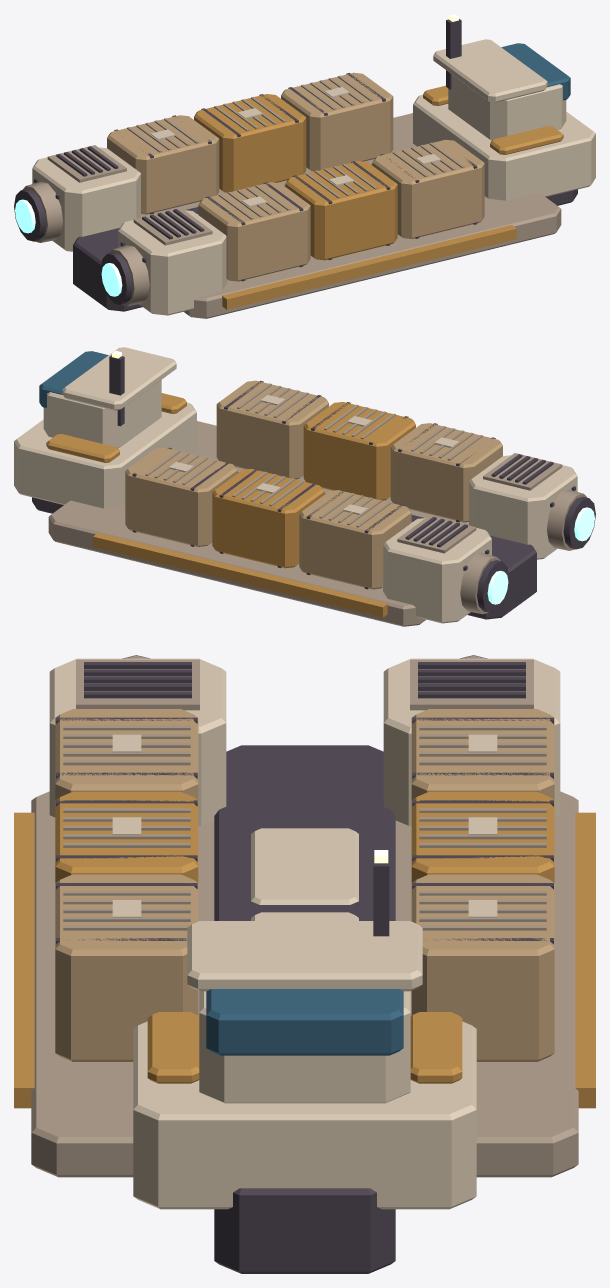
Rendered from freighter.glb.
The picture shows the model from 3 angles, top to bottom: view 1: azimuth 30°, elevation 25°; view 2: azimuth 150°, elevation 25°; view 3: azimuth 270°, elevation 25°; orthographic projection. The views are drawn at different scales.
Parts seen in each view (by area): view 1: freighter-hull, freighter-cargo, freighter-accent, freighter-armor, freighter-frame, freighter-glass, freighter-engine; view 2: freighter-hull, freighter-cargo, freighter-accent, freighter-armor, freighter-frame, freighter-glass, freighter-engine; view 3: freighter-hull, freighter-armor, freighter-cargo, freighter-frame, freighter-accent, freighter-glass.
Boxes of the visible parts, left/top/right/bottom form: freighter-hull: left=32, top=39, right=595, bottom=315; freighter-cargo: left=107, top=72, right=484, bottom=281; freighter-accent: left=194, top=85, right=563, bottom=309; freighter-armor: left=22, top=75, right=561, bottom=318; freighter-frame: left=14, top=19, right=577, bottom=311; freighter-glass: left=501, top=43, right=570, bottom=100; freighter-engine: left=15, top=199, right=122, bottom=296; freighter-hull: left=14, top=347, right=577, bottom=623; freighter-cargo: left=125, top=380, right=502, bottom=589; freighter-accent: left=46, top=393, right=415, bottom=617; freighter-armor: left=48, top=383, right=586, bottom=626; freighter-frame: left=32, top=355, right=595, bottom=619; freighter-glass: left=39, top=351, right=108, bottom=408; freighter-engine: left=487, top=507, right=594, bottom=604; freighter-hull: left=49, top=658, right=560, bottom=1209; freighter-armor: left=31, top=655, right=578, bottom=1177; freighter-cargo: left=55, top=709, right=554, bottom=1061; freighter-frame: left=56, top=655, right=553, bottom=1273; freighter-accent: left=14, top=791, right=595, bottom=1108; freighter-glass: left=206, top=989, right=403, bottom=1055.
Size of the model in its own units: 6.99 by 2.35 by 3.66.
